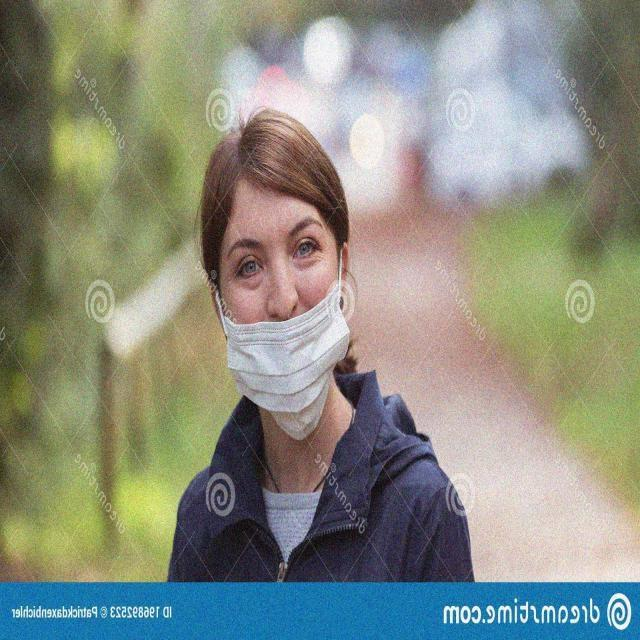hairnet: (205, 186, 344, 421)
